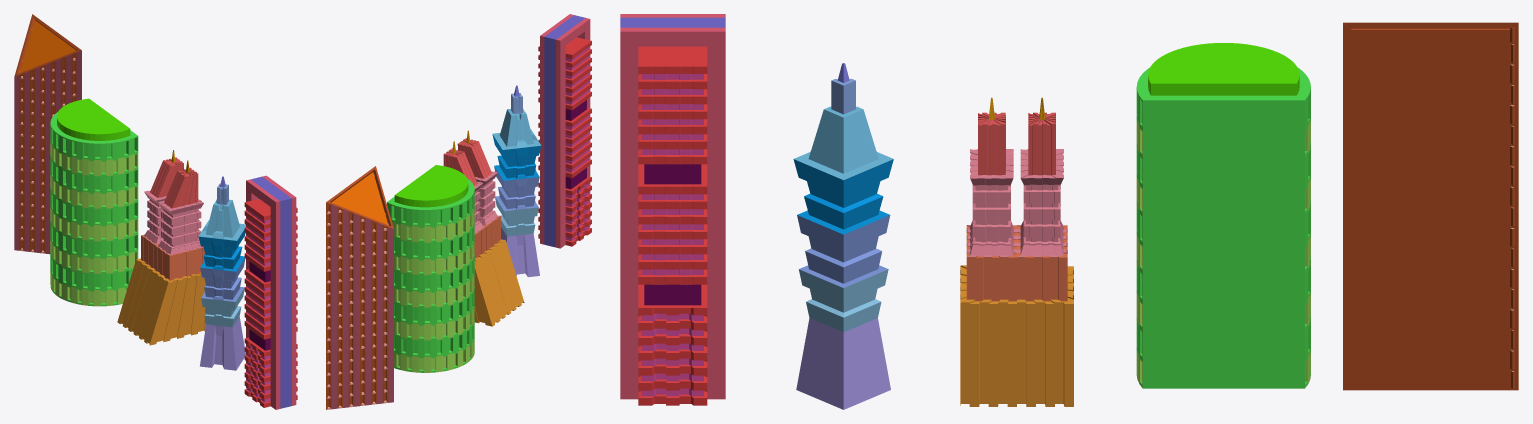
Rendered from hOCHHÄUSER.fbx % sTUÜCK EINHEITLICH EINER füR ALLe.fbx.
3 views of the same model, side by side, from view 1: azimuth 30°, elevation 25°; view 2: azimuth 150°, elevation 25°; view 3: azimuth 270°, elevation 25° (orthographic). The views are drawn at different scales.
Parts seen in each view (by area): view 1: Zylinder, Würfel.004, Würfel.002, Cube 1.004, Würfel.010; view 2: Zylinder, Cube 1.004, Würfel.004, Würfel.002, Würfel.010; view 3: Cube 1.004, Zylinder, Würfel.004, Würfel.002, Würfel.010.
Boxes of the visible parts, x1,y1,x2,y2 form: Zylinder: (50,98,138,306); Würfel.004: (244,175,297,409); Würfel.002: (117,150,205,345); Cube 1.004: (14,14,81,254); Würfel.010: (198,176,245,370); Zylinder: (387,165,474,372); Cube 1.004: (326,166,393,409); Würfel.004: (538,14,591,248); Würfel.002: (443,130,524,326); Würfel.010: (492,85,541,277); Cube 1.004: (1343,22,1518,390); Zylinder: (1136,43,1310,388); Würfel.004: (620,14,725,405); Würfel.002: (960,97,1073,406); Würfel.010: (793,63,893,409).
Size of the model in its own units: 2777 by 6644 by 14687.
